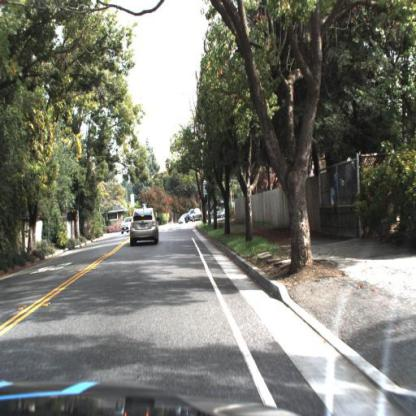car: (128, 208, 157, 248), (187, 205, 204, 225), (120, 216, 135, 234), (175, 210, 189, 227)
